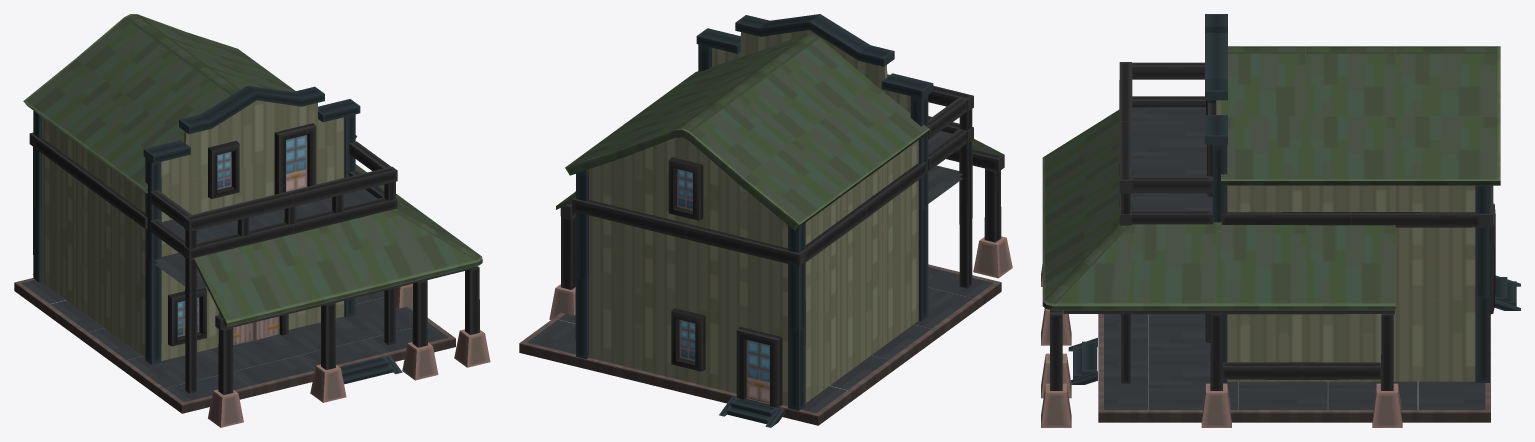
Rendered from house_v3_013.fbx.
The picture shows the model from 3 angles, left to right: view 1: azimuth 30°, elevation 25°; view 2: azimuth 150°, elevation 25°; view 3: azimuth 270°, elevation 25°; orthographic projection. The views are drawn at different scales.
Parts seen in each view (by area): view 1: house_v3_013; view 2: house_v3_013; view 3: house_v3_013.
Boxes of the visible parts, x1=… form: house_v3_013: x1=14, y1=14, x2=490, y2=427; house_v3_013: x1=519, y1=14, x2=1012, y2=427; house_v3_013: x1=1041, y1=14, x2=1520, y2=427.
Size of the model in its own units: 857 by 744 by 1070.
